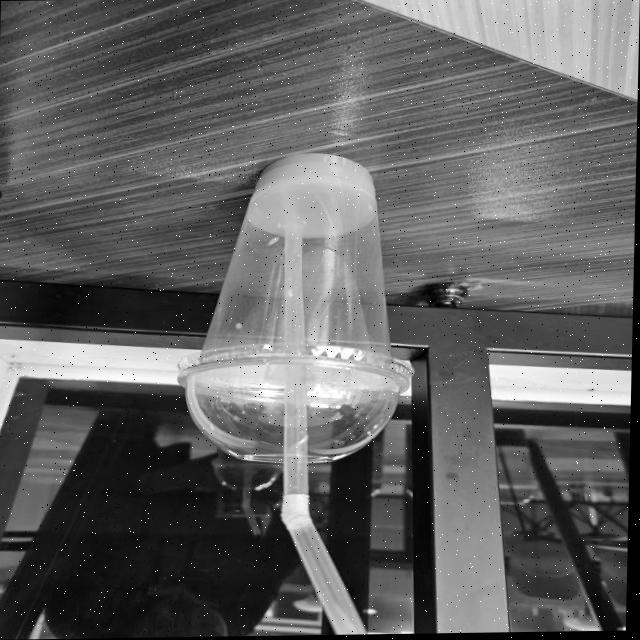cup: (175, 148, 419, 471)
